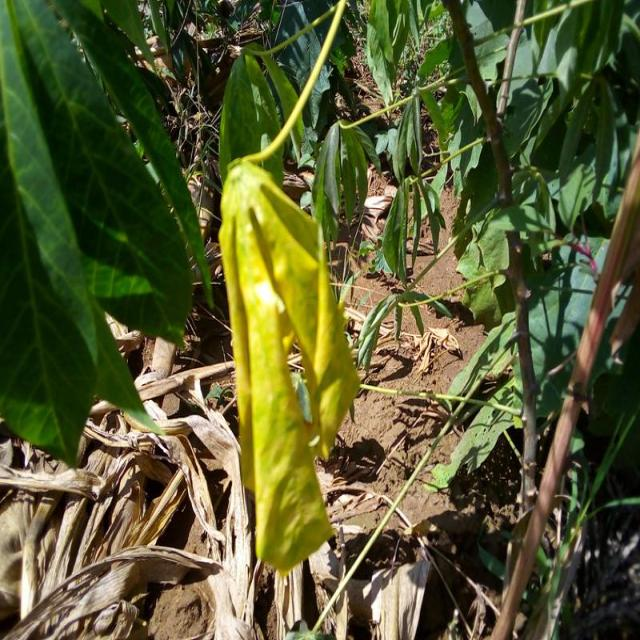cassava leaf: (0, 0, 196, 468), (217, 159, 361, 575)
